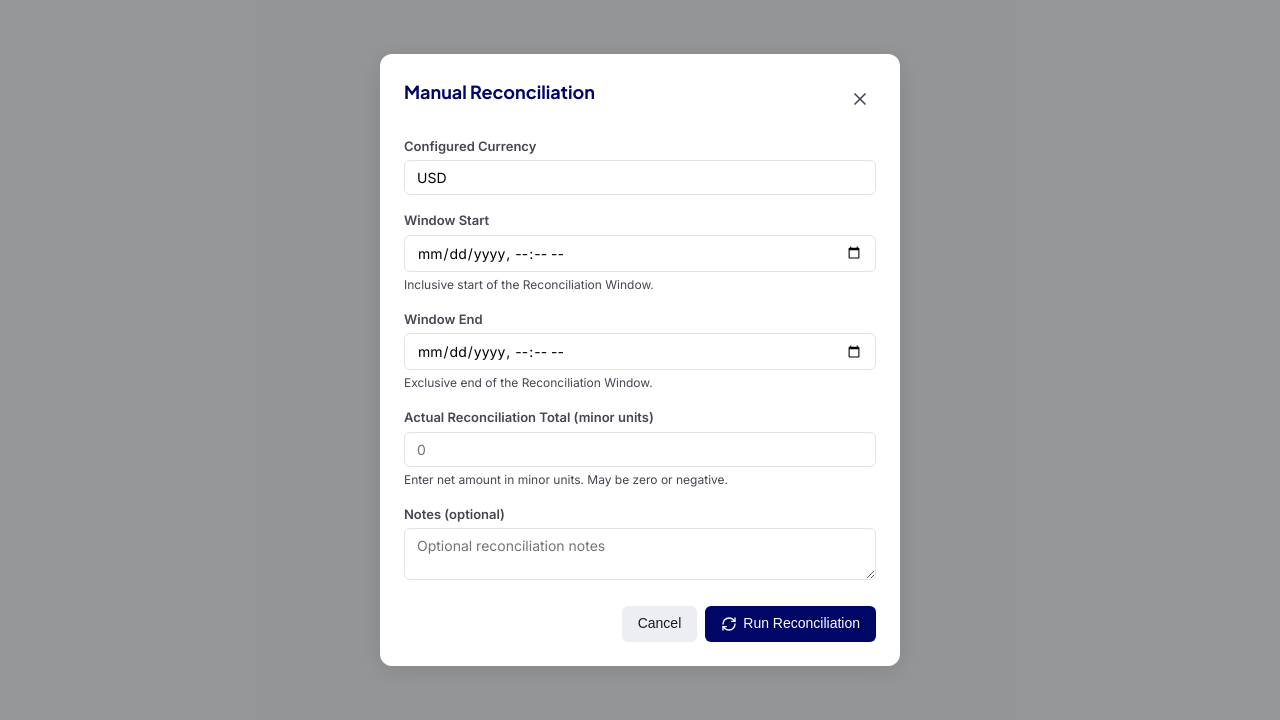
Test: RunReconciliationDialog › shows validation error when submitting empty form
Click the button "Run Reconciliation" at (791, 624), box top-left (705, 606), bottom-right (876, 642)
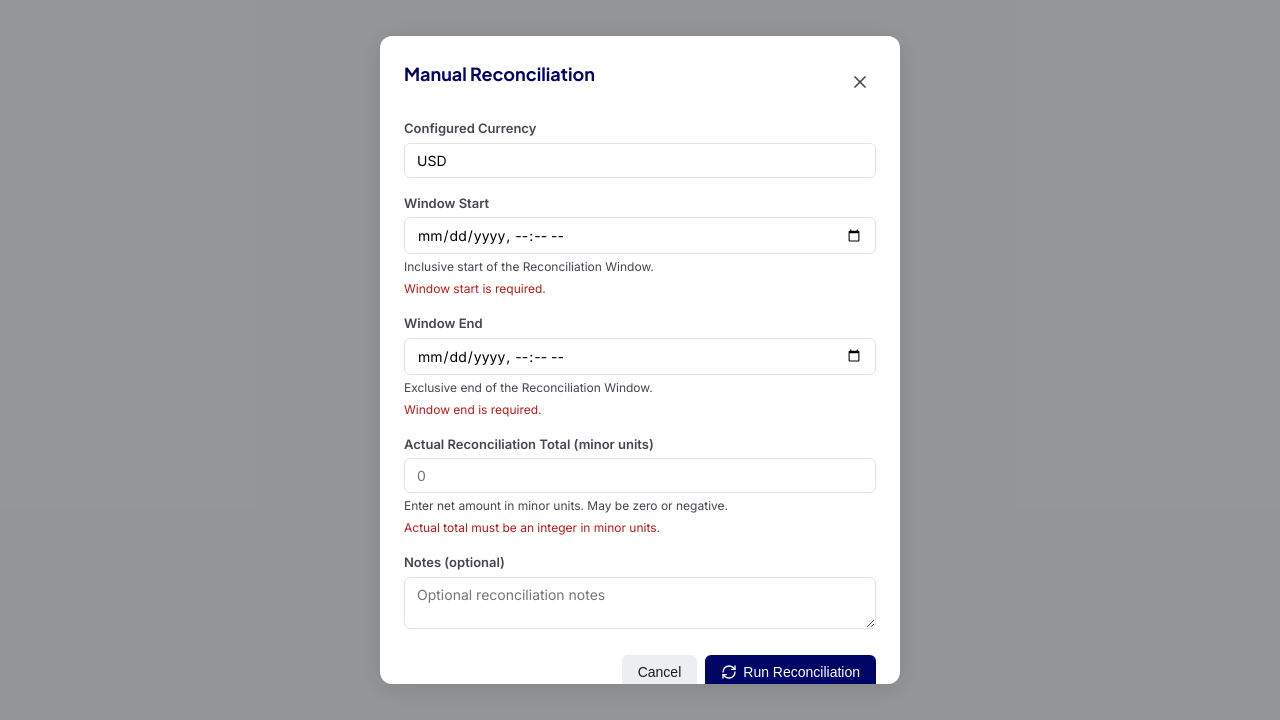
Now the text "Actual total must be an integer in minor units." is shown, box top-left (404, 520), bottom-right (660, 535)
